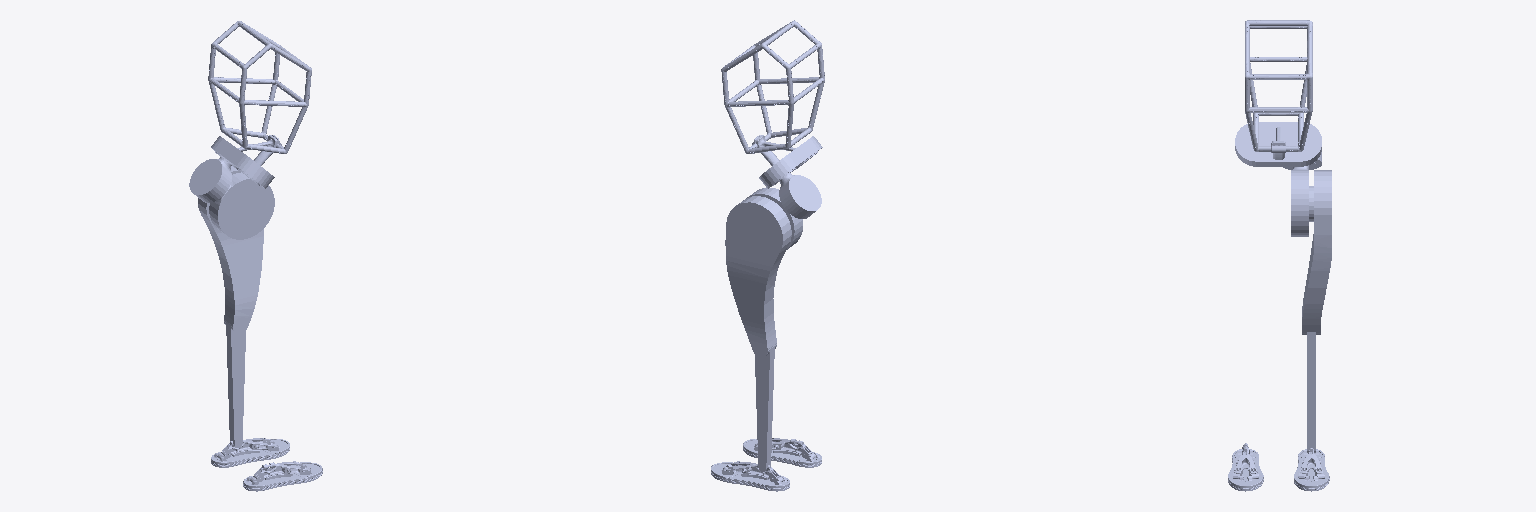
URDF robot description (TH01):
<?xml version="1.0" encoding="utf-8"?>
<!-- This URDF was automatically created by SolidWorks to URDF Exporter! Originally created by [author] ([email redacted]) 
     Commit Version: 1.6.0-4-g7f85cfe  Build Version: 1.6.7995.38578
     For more information, please see http://wiki.ros.org/sw_urdf_exporter -->
<robot
  name="TH01">
  <link
    name="BASE_LINK">
    <inertial>
      <origin
        xyz="-0.00032432 -1.7138E-06 0.034934"
        rpy="0 0 0" />
      <mass
        value="1.5125" />
      <inertia
        ixx="0.0054959"
        ixy="-2.6586E-08"
        ixz="0.00051296"
        iyy="0.0016528"
        iyz="-4.005E-09"
        izz="0.0055656" />
    </inertial>
    <visual>
      <origin
        xyz="0 0 0"
        rpy="0 0 0" />
      <geometry>
        <mesh
          filename="package://TH01/meshes/BASE_LINK.STL" />
      </geometry>
      <material
        name="">
        <color
          rgba="0.79216 0.81961 0.93333 1" />
      </material>
    </visual>
    <collision>
      <origin
        xyz="0 0 0"
        rpy="0 0 0" />
      <geometry>
        <mesh
          filename="package://TH01/meshes/BASE_LINK.STL" />
      </geometry>
    </collision>
  </link>
  <link
    name="HIP_R">
    <inertial>
      <origin
        xyz="0.00070388 1.163E-09 0.0023587"
        rpy="0 0 0" />
      <mass
        value="0.53262" />
      <inertia
        ixx="0.00095922"
        ixy="3.4974E-10"
        ixz="8.8324E-07"
        iyy="0.00061429"
        iyz="4.5218E-10"
        izz="0.00053874" />
    </inertial>
    <visual>
      <origin
        xyz="0 0 0"
        rpy="0 0 0" />
      <geometry>
        <mesh
          filename="package://TH01/meshes/HIP_R.STL" />
      </geometry>
      <material
        name="">
        <color
          rgba="0.79216 0.81961 0.93333 1" />
      </material>
    </visual>
    <collision>
      <origin
        xyz="0 0 0"
        rpy="0 0 0" />
      <geometry>
        <mesh
          filename="package://TH01/meshes/HIP_R.STL" />
      </geometry>
    </collision>
  </link>
  <joint
    name="HIP_YAW_R"
    type="revolute">
    <origin
      xyz="-0.082378 -0.0625 -0.082378"
      rpy="0 0.7854 0" />
    <parent
      link="BASE_LINK" />
    <child
      link="HIP_R" />
    <axis
      xyz="0 0 1" />
    <limit
      lower="0"
      upper="0"
      effort="0"
      velocity="0" />
  </joint>
  <link
    name="HIP_ABAD_R">
    <inertial>
      <origin
        xyz="-0.00090646 1.9266E-08 0.0026625"
        rpy="0 0 0" />
      <mass
        value="1.5072" />
      <inertia
        ixx="0.0063693"
        ixy="-2.7271E-10"
        ixz="6.0721E-07"
        iyy="0.0037857"
        iyz="-2.4133E-09"
        izz="0.0033911" />
    </inertial>
    <visual>
      <origin
        xyz="0 0 0"
        rpy="0 0 0" />
      <geometry>
        <mesh
          filename="package://TH01/meshes/HIP_ABAD_R.STL" />
      </geometry>
      <material
        name="">
        <color
          rgba="0.79216 0.81961 0.93333 1" />
      </material>
    </visual>
    <collision>
      <origin
        xyz="0 0 0"
        rpy="0 0 0" />
      <geometry>
        <mesh
          filename="package://TH01/meshes/HIP_ABAD_R.STL" />
      </geometry>
    </collision>
  </link>
  <joint
    name="HIP_ROLL_R"
    type="revolute">
    <origin
      xyz="0.141 0 0"
      rpy="1.5708 0 -1.5708" />
    <parent
      link="HIP_R" />
    <child
      link="HIP_ABAD_R" />
    <axis
      xyz="0 0 1" />
    <limit
      lower="0"
      upper="0"
      effort="0"
      velocity="0" />
  </joint>
  <link
    name="FEMUR_R">
    <inertial>
      <origin
        xyz="0.11352 0.012931 0.024704"
        rpy="0 0 0" />
      <mass
        value="2.9799" />
      <inertia
        ixx="0.0063149"
        ixy="-0.0024972"
        ixz="0.0038808"
        iyy="0.048482"
        iyz="0.00013252"
        izz="0.052755" />
    </inertial>
    <visual>
      <origin
        xyz="0 0 0"
        rpy="0 0 0" />
      <geometry>
        <mesh
          filename="package://TH01/meshes/FEMUR_R.STL" />
      </geometry>
      <material
        name="">
        <color
          rgba="0.79216 0.81961 0.93333 1" />
      </material>
    </visual>
    <collision>
      <origin
        xyz="0 0 0"
        rpy="0 0 0" />
      <geometry>
        <mesh
          filename="package://TH01/meshes/FEMUR_R.STL" />
      </geometry>
    </collision>
  </link>
  <joint
    name="HIP_PITCH_R"
    type="revolute">
    <origin
      xyz="0.029 0 0"
      rpy="-1.5708 0.7854 -1.5708" />
    <parent
      link="HIP_ABAD_R" />
    <child
      link="FEMUR_R" />
    <axis
      xyz="0 0 -1" />
    <limit
      lower="0"
      upper="0"
      effort="0"
      velocity="0" />
  </joint>
  <link
    name="TIBIA_R">
    <inertial>
      <origin
        xyz="0.14155 -1.6653E-16 -1.3878E-16"
        rpy="0 0 0" />
      <mass
        value="0.47789" />
      <inertia
        ixx="0.00011453"
        ixy="-6.5391E-19"
        ixz="-1.7034E-19"
        iyy="0.0068384"
        iyz="-4.8168E-21"
        izz="0.0068573" />
    </inertial>
    <visual>
      <origin
        xyz="0 0 0"
        rpy="0 0 0" />
      <geometry>
        <mesh
          filename="package://TH01/meshes/TIBIA_R.STL" />
      </geometry>
      <material
        name="">
        <color
          rgba="0.79216 0.81961 0.93333 1" />
      </material>
    </visual>
    <collision>
      <origin
        xyz="0 0 0"
        rpy="0 0 0" />
      <geometry>
        <mesh
          filename="package://TH01/meshes/TIBIA_R.STL" />
      </geometry>
    </collision>
  </link>
  <joint
    name="KNEE_PITCH_R"
    type="revolute">
    <origin
      xyz="0.375 0 0"
      rpy="0 0 0" />
    <parent
      link="FEMUR_R" />
    <child
      link="TIBIA_R" />
    <axis
      xyz="0 0 1" />
    <limit
      lower="0"
      upper="0"
      effort="0"
      velocity="0" />
  </joint>
  <link
    name="ANKLE_R">
    <inertial>
      <origin
        xyz="-1.9412E-08 -1.1903E-07 -1.3285E-09"
        rpy="0 0 0" />
      <mass
        value="0.015159" />
      <inertia
        ixx="1.6782E-06"
        ixy="5.9107E-12"
        ixz="-2.7967E-14"
        iyy="1.487E-06"
        iyz="-1.7347E-12"
        izz="1.4133E-06" />
    </inertial>
    <visual>
      <origin
        xyz="0 0 0"
        rpy="0 0 0" />
      <geometry>
        <mesh
          filename="package://TH01/meshes/ANKLE_R.STL" />
      </geometry>
      <material
        name="">
        <color
          rgba="0.79216 0.81961 0.93333 1" />
      </material>
    </visual>
    <collision>
      <origin
        xyz="0 0 0"
        rpy="0 0 0" />
      <geometry>
        <mesh
          filename="package://TH01/meshes/ANKLE_R.STL" />
      </geometry>
    </collision>
  </link>
  <joint
    name="ANKLE_PITCH_R"
    type="revolute">
    <origin
      xyz="0.375 0 0"
      rpy="0 0 0" />
    <parent
      link="TIBIA_R" />
    <child
      link="ANKLE_R" />
    <axis
      xyz="0 0 1" />
    <limit
      lower="0"
      upper="0"
      effort="0"
      velocity="0" />
  </joint>
  <link
    name="FOOT_R">
    <inertial>
      <origin
        xyz="0.031776 -1.0408E-16 0.040697"
        rpy="0 0 0" />
      <mass
        value="0.061854" />
      <inertia
        ixx="0.00018157"
        ixy="8.5105E-21"
        ixz="-5.8007E-06"
        iyy="0.00016508"
        iyz="7.9672E-20"
        izz="2.5049E-05" />
    </inertial>
    <visual>
      <origin
        xyz="0 0 0"
        rpy="0 0 0" />
      <geometry>
        <mesh
          filename="package://TH01/meshes/FOOT_R.STL" />
      </geometry>
      <material
        name="">
        <color
          rgba="0.79216 0.81961 0.93333 1" />
      </material>
    </visual>
    <collision>
      <origin
        xyz="0 0 0"
        rpy="0 0 0" />
      <geometry>
        <mesh
          filename="package://TH01/meshes/FOOT_R.STL" />
      </geometry>
    </collision>
  </link>
  <joint
    name="ANKLE_ROLL_R"
    type="revolute">
    <origin
      xyz="0 0 0"
      rpy="-1.5708 0 0" />
    <parent
      link="ANKLE_R" />
    <child
      link="FOOT_R" />
    <axis
      xyz="0 0 1" />
    <limit
      lower="0"
      upper="0"
      effort="0"
      velocity="0" />
  </joint>
  <link
    name="HIP_L">
    <inertial>
      <origin
        xyz="0.00070388 1.163E-09 0.0023587"
        rpy="0 0 0" />
      <mass
        value="0.53262" />
      <inertia
        ixx="0.00095922"
        ixy="3.4974E-10"
        ixz="8.8324E-07"
        iyy="0.00061429"
        iyz="4.5218E-10"
        izz="0.00053874" />
    </inertial>
    <visual>
      <origin
        xyz="0 0 0"
        rpy="0 0 0" />
      <geometry>
        <mesh
          filename="package://TH01/meshes/HIP_L.STL" />
      </geometry>
      <material
        name="">
        <color
          rgba="0.79216 0.81961 0.93333 1" />
      </material>
    </visual>
    <collision>
      <origin
        xyz="0 0 0"
        rpy="0 0 0" />
      <geometry>
        <mesh
          filename="package://TH01/meshes/HIP_L.STL" />
      </geometry>
    </collision>
  </link>
  <joint
    name="HIP_YAW_L"
    type="revolute">
    <origin
      xyz="-0.082378 0.0625 -0.082378"
      rpy="0 0.7854 0" />
    <parent
      link="BASE_LINK" />
    <child
      link="HIP_L" />
    <axis
      xyz="0 0 1" />
    <limit
      lower="0"
      upper="0"
      effort="0"
      velocity="0" />
  </joint>
  <link
    name="HIP_ABAD_L">
    <inertial>
      <origin
        xyz="-0.00090646 1.9266E-08 0.0026625"
        rpy="0 0 0" />
      <mass
        value="1.5072" />
      <inertia
        ixx="0.0063693"
        ixy="-2.7271E-10"
        ixz="6.0721E-07"
        iyy="0.0037857"
        iyz="-2.4133E-09"
        izz="0.0033911" />
    </inertial>
    <visual>
      <origin
        xyz="0 0 0"
        rpy="0 0 0" />
      <geometry>
        <mesh
          filename="package://TH01/meshes/HIP_ABAD_L.STL" />
      </geometry>
      <material
        name="">
        <color
          rgba="0.79216 0.81961 0.93333 1" />
      </material>
    </visual>
    <collision>
      <origin
        xyz="0 0 0"
        rpy="0 0 0" />
      <geometry>
        <mesh
          filename="package://TH01/meshes/HIP_ABAD_L.STL" />
      </geometry>
    </collision>
  </link>
  <joint
    name="HIP_ROLL_L"
    type="revolute">
    <origin
      xyz="0.141 0 0"
      rpy="-1.5708 0 1.5708" />
    <parent
      link="HIP_L" />
    <child
      link="HIP_ABAD_L" />
    <axis
      xyz="0 0 1" />
    <limit
      lower="0"
      upper="0"
      effort="0"
      velocity="0" />
  </joint>
  <link
    name="FEMUR_L">
    <inertial>
      <origin
        xyz="0.11352 0.012931 -0.024704"
        rpy="0 0 0" />
      <mass
        value="2.9799" />
      <inertia
        ixx="0.0063149"
        ixy="-0.0024972"
        ixz="-0.0038808"
        iyy="0.048482"
        iyz="-0.00013252"
        izz="0.052755" />
    </inertial>
    <visual>
      <origin
        xyz="0 0 0"
        rpy="0 0 0" />
      <geometry>
        <mesh
          filename="package://TH01/meshes/FEMUR_L.STL" />
      </geometry>
      <material
        name="">
        <color
          rgba="0.79216 0.81961 0.93333 1" />
      </material>
    </visual>
    <collision>
      <origin
        xyz="0 0 0"
        rpy="0 0 0" />
      <geometry>
        <mesh
          filename="package://TH01/meshes/FEMUR_L.STL" />
      </geometry>
    </collision>
  </link>
  <joint
    name="HIP_PITCH_L"
    type="revolute">
    <origin
      xyz="0.029 0 0"
      rpy="-1.5708 0.7854 1.5708" />
    <parent
      link="HIP_ABAD_L" />
    <child
      link="FEMUR_L" />
    <axis
      xyz="0 0 1" />
    <limit
      lower="0"
      upper="0"
      effort="0"
      velocity="0" />
  </joint>
  <link
    name="TIBIA_L">
    <inertial>
      <origin
        xyz="0.14155 -2.2204E-16 1.3878E-17"
        rpy="0 0 0" />
      <mass
        value="0.47789" />
      <inertia
        ixx="0.00011453"
        ixy="-6.0986E-20"
        ixz="-4.4743E-20"
        iyy="0.0068384"
        iyz="-4.319E-20"
        izz="0.0068573" />
    </inertial>
    <visual>
      <origin
        xyz="0 0 0"
        rpy="0 0 0" />
      <geometry>
        <mesh
          filename="package://TH01/meshes/TIBIA_L.STL" />
      </geometry>
      <material
        name="">
        <color
          rgba="0.79216 0.81961 0.93333 1" />
      </material>
    </visual>
    <collision>
      <origin
        xyz="0 0 0"
        rpy="0 0 0" />
      <geometry>
        <mesh
          filename="package://TH01/meshes/TIBIA_L.STL" />
      </geometry>
    </collision>
  </link>
  <joint
    name="KNEE_PITCH_L"
    type="revolute">
    <origin
      xyz="0.375 0 0"
      rpy="0 0 0" />
    <parent
      link="FEMUR_L" />
    <child
      link="TIBIA_L" />
    <axis
      xyz="0 0 1" />
    <limit
      lower="0"
      upper="0"
      effort="0"
      velocity="0" />
  </joint>
  <link
    name="ANKLE_L">
    <inertial>
      <origin
        xyz="-1.9412E-08 -1.1903E-07 -1.3285E-09"
        rpy="0 0 0" />
      <mass
        value="0.015159" />
      <inertia
        ixx="1.6782E-06"
        ixy="5.9107E-12"
        ixz="-2.7967E-14"
        iyy="1.487E-06"
        iyz="-1.7347E-12"
        izz="1.4133E-06" />
    </inertial>
    <visual>
      <origin
        xyz="0 0 0"
        rpy="0 0 0" />
      <geometry>
        <mesh
          filename="package://TH01/meshes/ANKLE_L.STL" />
      </geometry>
      <material
        name="">
        <color
          rgba="0.79216 0.81961 0.93333 1" />
      </material>
    </visual>
    <collision>
      <origin
        xyz="0 0 0"
        rpy="0 0 0" />
      <geometry>
        <mesh
          filename="package://TH01/meshes/ANKLE_L.STL" />
      </geometry>
    </collision>
  </link>
  <joint
    name="ANKLE_PITCH_L"
    type="revolute">
    <origin
      xyz="0.375 0 0"
      rpy="0 0 0" />
    <parent
      link="TIBIA_L" />
    <child
      link="ANKLE_L" />
    <axis
      xyz="0 0 1" />
    <limit
      lower="0"
      upper="0"
      effort="0"
      velocity="0" />
  </joint>
  <link
    name="FOOT_L">
    <inertial>
      <origin
        xyz="0.031776 -1.0686E-15 0.040697"
        rpy="0 0 0" />
      <mass
        value="0.061854" />
      <inertia
        ixx="0.00018157"
        ixy="1.1674E-20"
        ixz="-5.8007E-06"
        iyy="0.00016508"
        iyz="-7.3851E-20"
        izz="2.5049E-05" />
    </inertial>
    <visual>
      <origin
        xyz="0 0 0"
        rpy="0 0 0" />
      <geometry>
        <mesh
          filename="package://TH01/meshes/FOOT_L.STL" />
      </geometry>
      <material
        name="">
        <color
          rgba="0.79216 0.81961 0.93333 1" />
      </material>
    </visual>
    <collision>
      <origin
        xyz="0 0 0"
        rpy="0 0 0" />
      <geometry>
        <mesh
          filename="package://TH01/meshes/FOOT_L.STL" />
      </geometry>
    </collision>
  </link>
  <joint
    name="ANKLE_ROLL_L"
    type="revolute">
    <origin
      xyz="0 0 0"
      rpy="-1.5708 0 0" />
    <parent
      link="ANKLE_L" />
    <child
      link="FOOT_L" />
    <axis
      xyz="0 0 1" />
    <limit
      lower="0"
      upper="0"
      effort="0"
      velocity="0" />
  </joint>
</robot>

--- Render facts (derived) ---
3 views of the same robot in one strip: view 1: azimuth 30°, elevation 25°; view 2: azimuth 150°, elevation 25°; view 3: azimuth 270°, elevation 25° (orthographic).
Model TH01 with 13 links and 12 joints (12 revolute), rooted at BASE_LINK, posed every joint at zero.
Links seen in each view (by area): view 1: BASE_LINK, FEMUR_L, HIP_ABAD_L, TIBIA_L, FOOT_R, FOOT_L, HIP_L; view 2: FEMUR_L, BASE_LINK, TIBIA_L, FOOT_L, HIP_L, FOOT_R, HIP_ABAD_L; view 3: BASE_LINK, FEMUR_L, HIP_ABAD_L, FOOT_R, FOOT_L, TIBIA_L.
Boxes of the visible links, x1=… form: BASE_LINK: x1=208, y1=21, x2=311, y2=188; FEMUR_L: x1=198, y1=166, x2=263, y2=333; HIP_ABAD_L: x1=209, y1=172, x2=274, y2=239; TIBIA_L: x1=224, y1=317, x2=248, y2=446; FOOT_R: x1=243, y1=461, x2=322, y2=491; FOOT_L: x1=211, y1=438, x2=289, y2=467; HIP_L: x1=189, y1=157, x2=231, y2=202; FEMUR_L: x1=725, y1=196, x2=791, y2=356; BASE_LINK: x1=721, y1=20, x2=824, y2=188; TIBIA_L: x1=752, y1=342, x2=776, y2=471; FOOT_L: x1=711, y1=461, x2=789, y2=491; HIP_L: x1=779, y1=173, x2=821, y2=218; FOOT_R: x1=743, y1=438, x2=821, y2=467; HIP_ABAD_L: x1=747, y1=188, x2=802, y2=249; BASE_LINK: x1=1235, y1=20, x2=1321, y2=166; FEMUR_L: x1=1302, y1=170, x2=1331, y2=333; HIP_ABAD_L: x1=1291, y1=165, x2=1313, y2=236; FOOT_R: x1=1228, y1=443, x2=1263, y2=491; FOOT_L: x1=1294, y1=448, x2=1329, y2=491; TIBIA_L: x1=1302, y1=332, x2=1320, y2=449.
Size in the robot's own frame: 0.3275 by 0.2904 by 1.37 metres.
8 mesh visuals loaded from 13 distinct referenced files (8 binary STL); not drawn: 5 (reference not matched to a file when rendering).